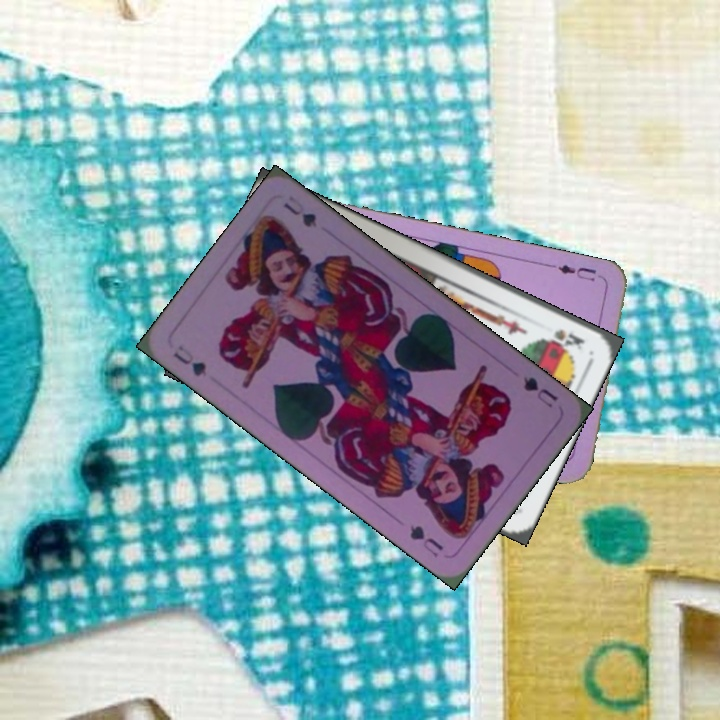EU: (548, 260, 606, 284)
GU: (519, 372, 561, 411), (169, 341, 209, 380)
SK: (544, 325, 587, 352)
